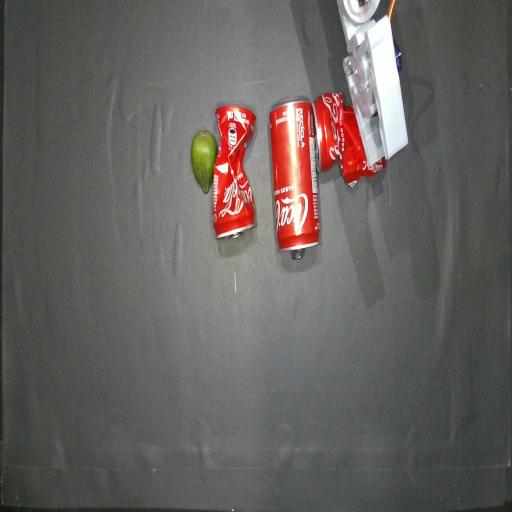higo: (191, 130, 217, 193)
lata: (270, 97, 320, 259)
lata_defectuoso: (313, 93, 385, 187), (212, 104, 255, 238)
